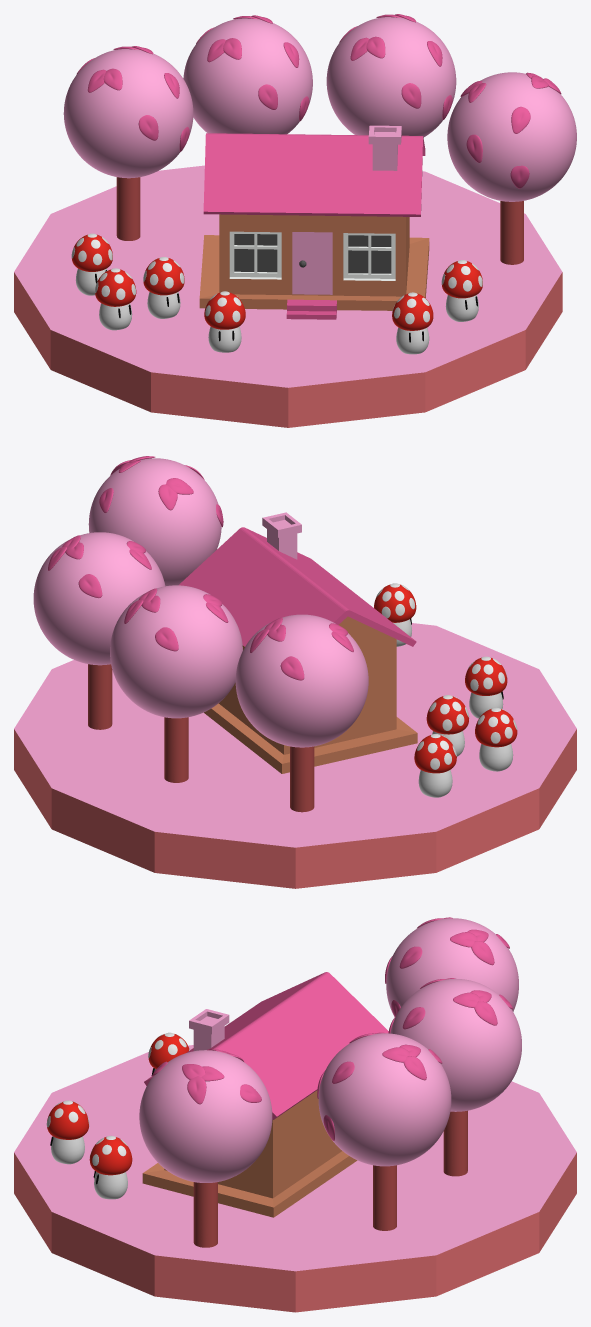
The model's file is houseland3.fbx.
The picture shows the model from 3 angles, top to bottom: view 1: azimuth 30°, elevation 25°; view 2: azimuth 150°, elevation 25°; view 3: azimuth 270°, elevation 25°; orthographic projection. The views are drawn at different scales.
Visible parts, largest first — view 1: Circle.001, Circle, Cube.015, Cube.016, Roundcube.004, Roundcube.005, Roundcube.003, Roundcube.002, Cube.010, Cube.037, Circle.010, Circle.011 (+13 smaller); view 2: Circle.001, Circle, Roundcube.004, Roundcube.002, Cube.015, Roundcube.003, Roundcube.005, Cube.016, Circle.010, Circle.008, Circle.009, Cube.014 (+8 smaller); view 3: Circle.001, Circle, Roundcube.005, Roundcube.003, Cube.015, Roundcube.002, Cube.016, Roundcube.004, Circle.011, Circle.009, Circle.008, Cube.014 (+5 smaller).
Boxes of the visible parts, x1=… form: Circle.001: x1=14, y1=165, x2=562, y2=387; Circle: x1=14, y1=272, x2=562, y2=427; Cube.015: x1=203, y1=133, x2=425, y2=216; Cube.016: x1=199, y1=214, x2=429, y2=310; Roundcube.004: x1=63, y1=49, x2=193, y2=178; Roundcube.005: x1=447, y1=72, x2=576, y2=201; Roundcube.003: x1=326, y1=17, x2=456, y2=137; Roundcube.002: x1=183, y1=18, x2=312, y2=134; Cube.010: x1=229, y1=231, x2=395, y2=280; Cube.037: x1=292, y1=232, x2=332, y2=294; Circle.010: x1=116, y1=177, x2=140, y2=240; Circle.011: x1=500, y1=201, x2=523, y2=264; Circle.001: x1=14, y1=623, x2=576, y2=847; Circle: x1=14, y1=729, x2=576, y2=888; Roundcube.004: x1=235, y1=614, x2=368, y2=747; Roundcube.002: x1=110, y1=585, x2=242, y2=718; Cube.015: x1=179, y1=527, x2=416, y2=646; Roundcube.003: x1=33, y1=532, x2=165, y2=665; Roundcube.005: x1=88, y1=458, x2=221, y2=586; Cube.016: x1=204, y1=616, x2=417, y2=773; Circle.010: x1=290, y1=746, x2=314, y2=812; Circle.008: x1=164, y1=717, x2=188, y2=782; Circle.009: x1=88, y1=664, x2=112, y2=729; Cube.014: x1=262, y1=512, x2=301, y2=559; Circle.001: x1=14, y1=1045, x2=576, y2=1271; Circle: x1=14, y1=1153, x2=576, y2=1312; Roundcube.005: x1=139, y1=1050, x2=272, y2=1182; Roundcube.003: x1=318, y1=1033, x2=451, y2=1166; Cube.015: x1=144, y1=972, x2=388, y2=1119; Roundcube.002: x1=390, y1=978, x2=521, y2=1111; Cube.016: x1=142, y1=1090, x2=357, y2=1217; Roundcube.004: x1=386, y1=918, x2=518, y2=1016; Circle.011: x1=193, y1=1182, x2=217, y2=1247; Circle.009: x1=373, y1=1165, x2=396, y2=1230; Circle.008: x1=443, y1=1110, x2=467, y2=1176; Cube.014: x1=189, y1=1009, x2=229, y2=1050.
Size of the model in its own units: 885 by 395 by 885.
